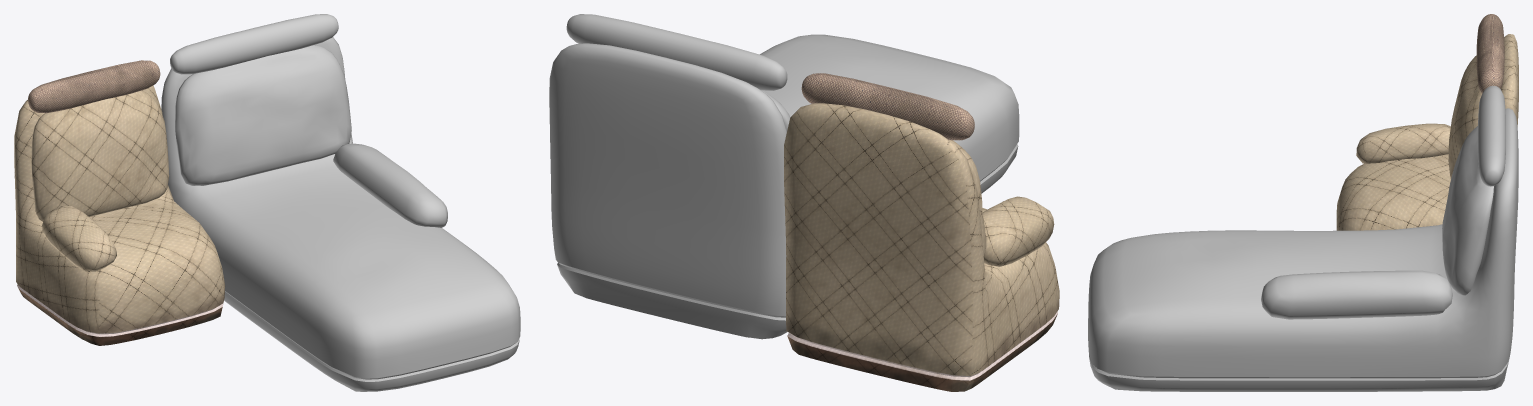
Rendered from 大沙发.fbx.
The picture shows the model from 3 angles, left to right: view 1: azimuth 30°, elevation 25°; view 2: azimuth 150°, elevation 25°; view 3: azimuth 270°, elevation 25°; orthographic projection. The views are drawn at different scales.
Parts seen in each view (by area): view 1: 大沙发部分2, 大沙发部分1, 大沙发部分1扶手; view 2: 大沙发部分2, 大沙发部分1, 大沙发部分1扶手; view 3: 大沙发部分2, 大沙发部分1, 大沙发部分1扶手.
Boxes of the visible parts, <box> form: 大沙发部分2: <box>161,14,520,391</box>; 大沙发部分1: <box>14,60,225,345</box>; 大沙发部分1扶手: <box>42,206,116,272</box>; 大沙发部分2: <box>549,14,1019,339</box>; 大沙发部分1: <box>784,73,1059,391</box>; 大沙发部分1扶手: <box>982,196,1054,266</box>; 大沙发部分2: <box>1088,85,1518,391</box>; 大沙发部分1: <box>1336,14,1518,230</box>; 大沙发部分1扶手: <box>1356,123,1450,163</box>.
Size of the model in its own units: 286 by 178 by 305.
